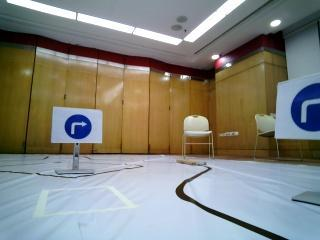right: (276, 81, 320, 136), (55, 105, 103, 145)
